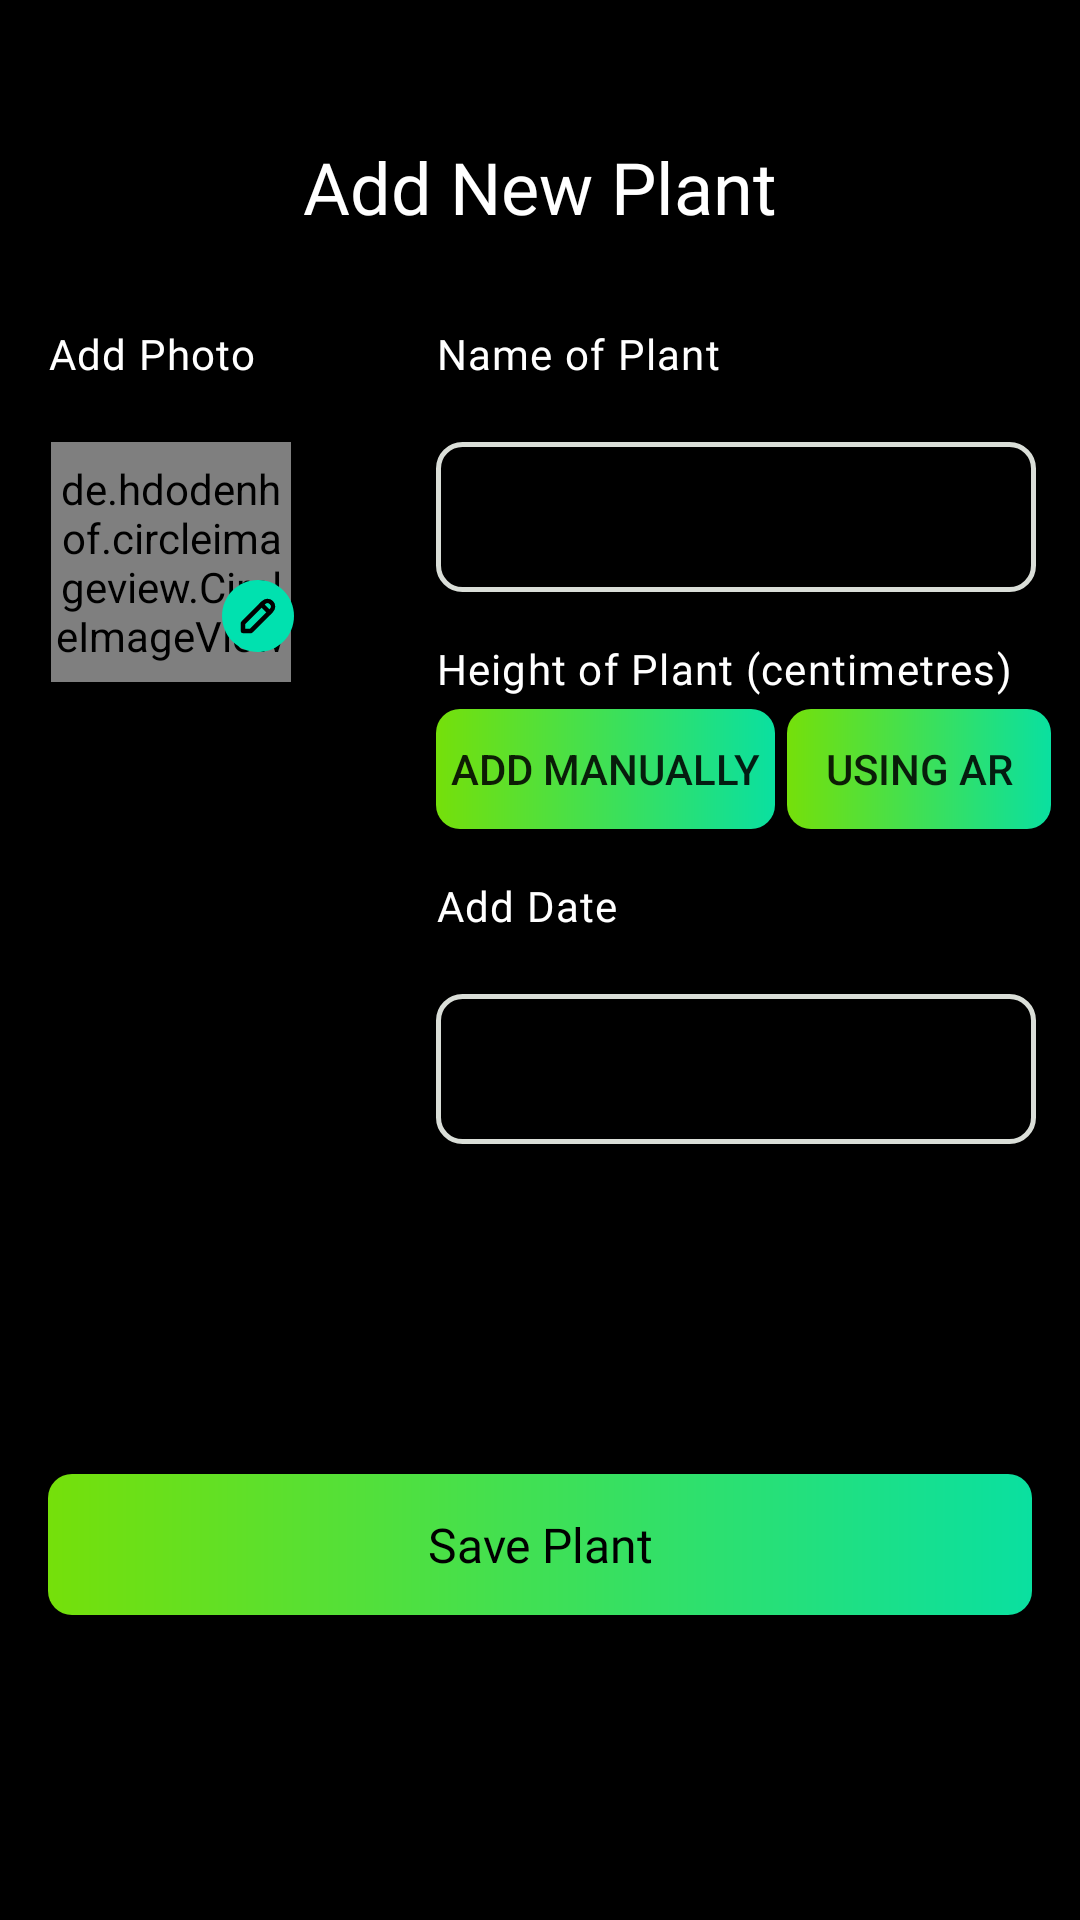

Where icons sit on this 1080×1920 app screen, as bbox(x1, y1, x2, y2):
write circle: bbox(222, 580, 294, 652)
